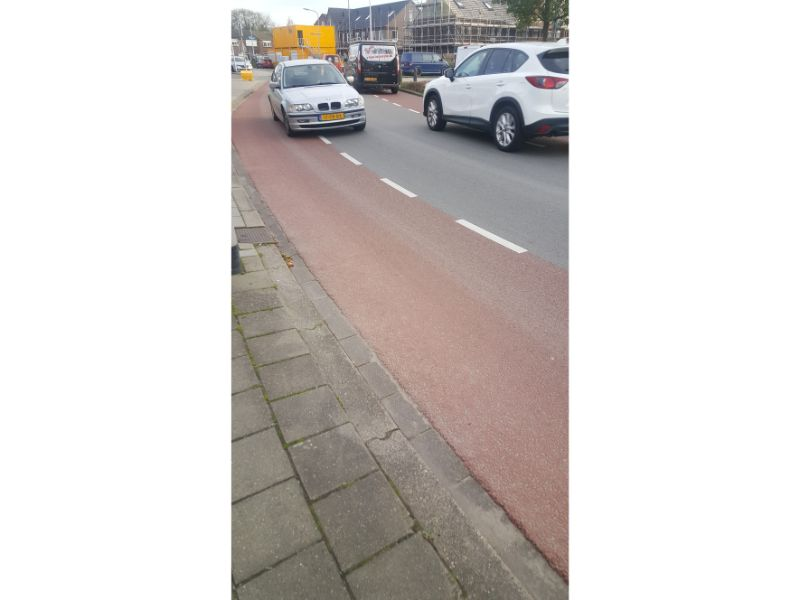kenteken: (318, 110, 345, 122)
